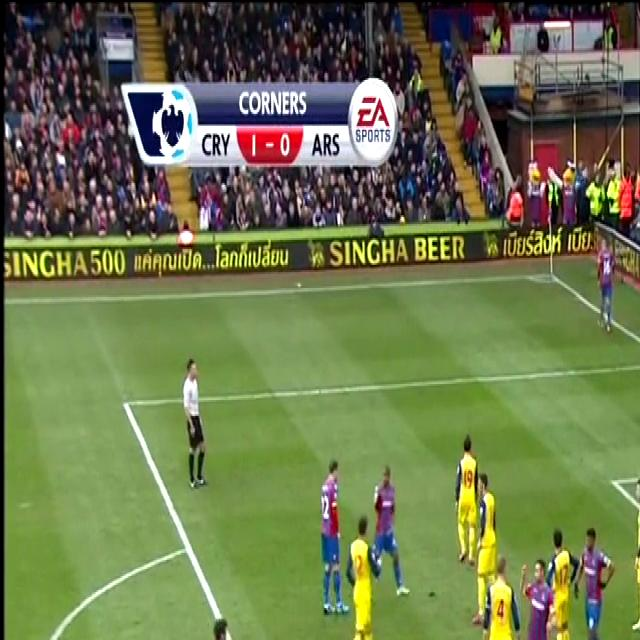referee: (170, 352, 221, 496)
soccer-player: (309, 458, 359, 623), (334, 522, 402, 640), (361, 460, 412, 603), (563, 519, 622, 640), (443, 424, 481, 574), (513, 546, 567, 640), (467, 560, 525, 640), (587, 230, 627, 336), (616, 475, 640, 633), (188, 606, 258, 640)
